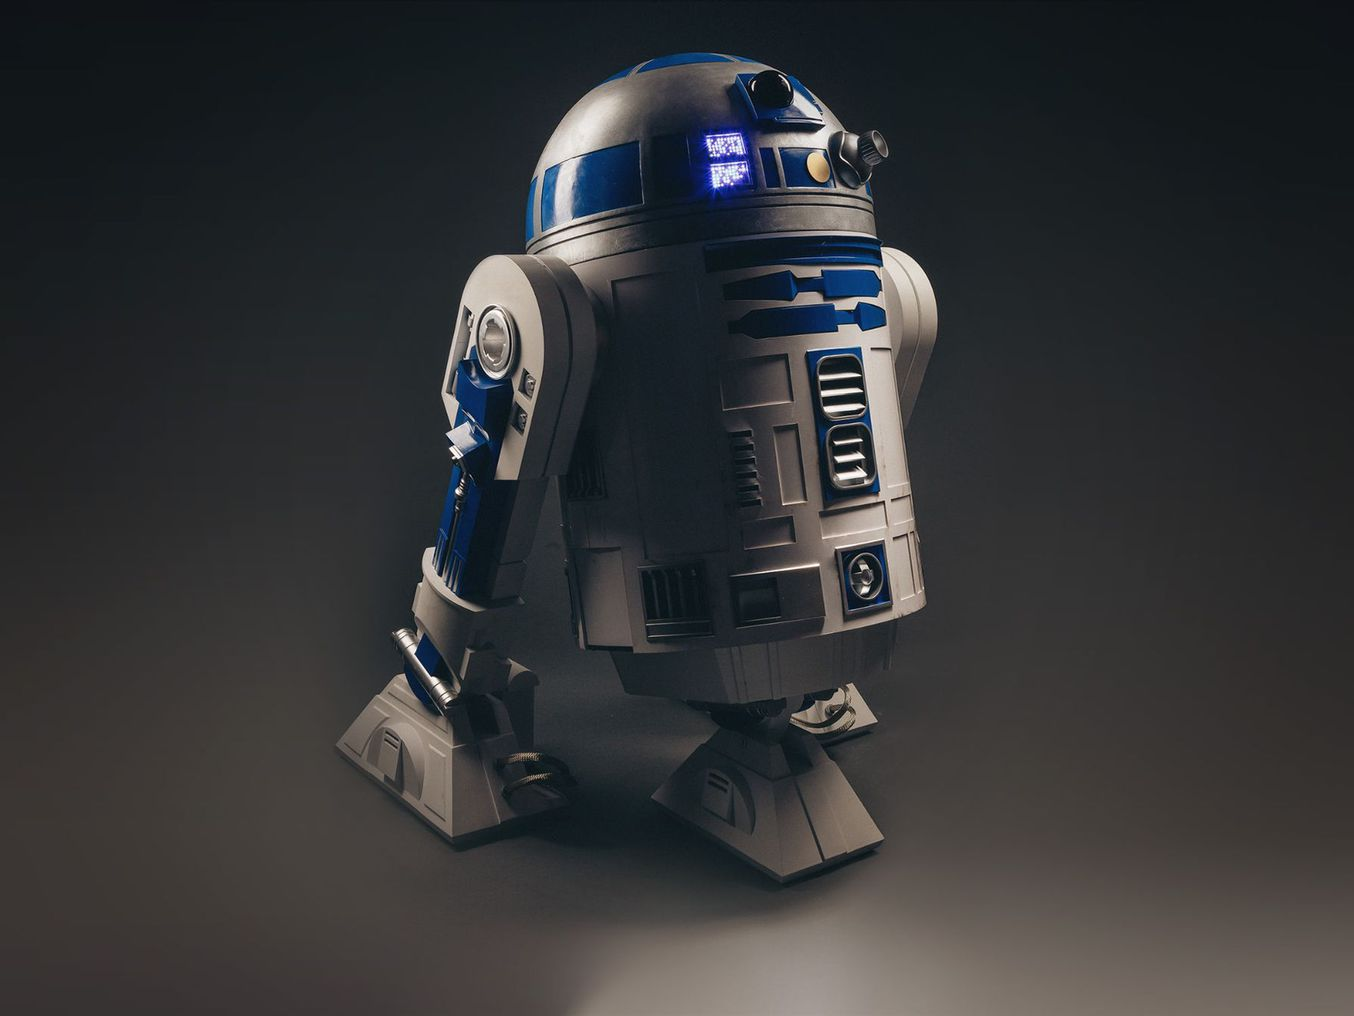r2d2: (337, 55, 938, 885)
